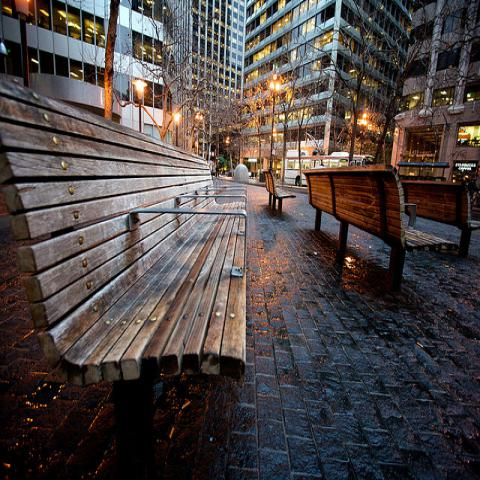bus: (285, 150, 314, 184)
